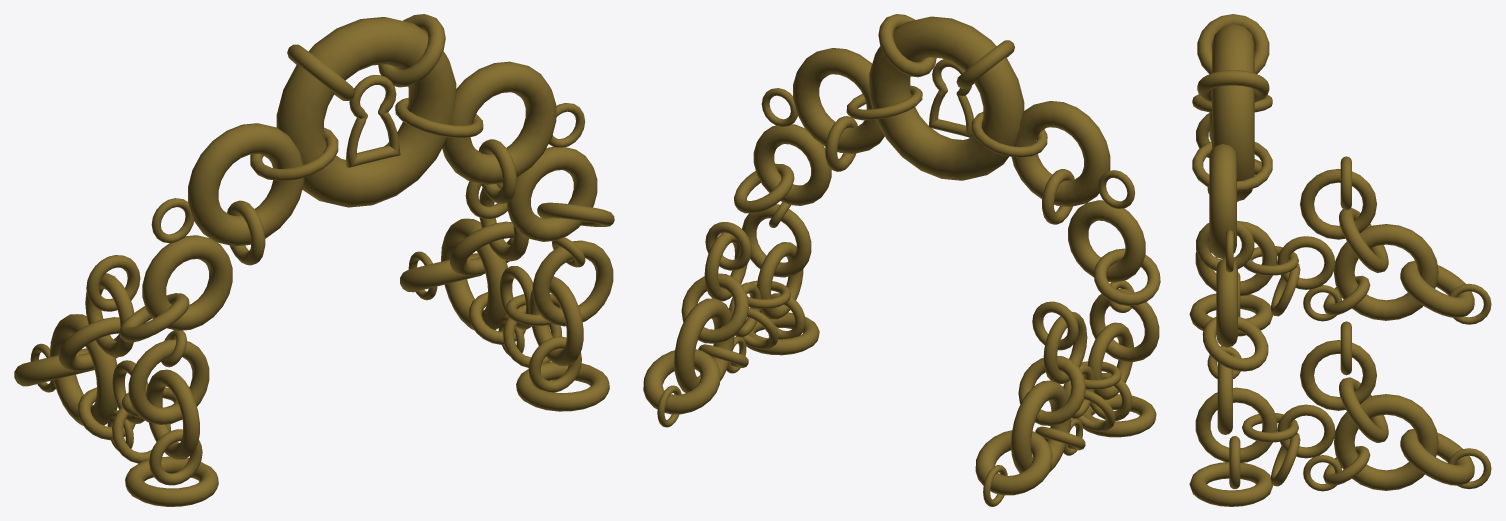
The model's file is OT_071_huge_zlitos_with_keyhole.glb.
The picture shows the model from 3 angles, left to right: view 1: azimuth 30°, elevation 25°; view 2: azimuth 150°, elevation 25°; view 3: azimuth 270°, elevation 25°; orthographic projection. The views are drawn at different scales.
Visible parts, largest first — view 1: zlitos, keyhole; view 2: zlitos, keyhole; view 3: zlitos.
Part boxes in pixels (<box>): zlitos: <box>14,14,614,506</box>; keyhole: <box>345,75,400,167</box>; zlitos: <box>643,14,1160,506</box>; keyhole: <box>928,59,973,137</box>; zlitos: <box>1189,14,1491,506</box>.
Bounding box in the file's own units: 4.65 × 3.86 × 2.81.
